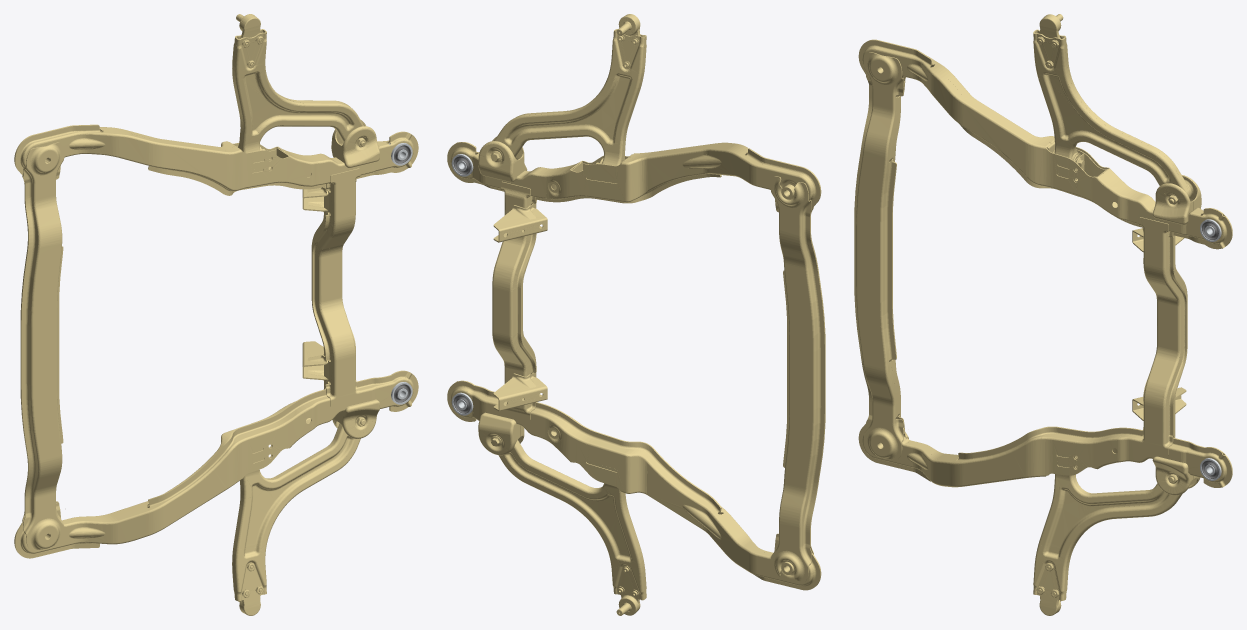
The model's file is Fr Subframe.glb.
3 views of the same model, side by side, from view 1: azimuth 30°, elevation 25°; view 2: azimuth 150°, elevation 25°; view 3: azimuth 330°, elevation 25° (orthographic).
Parts seen in each view (by area): view 1: Node3, Node2, Node4, Node1, Node8, Node5, Node6, Node7, Node9; view 2: Node3, Node1, Node4, Node5, Node6, Node8, Node7, Node2, Node9; view 3: Node3, Node4, Node2, Node1, Node8, Node5, Node6, Node7, Node9.
Part boxes in pixels (bbox=[...]): Node3: bbox=[20, 142, 64, 550]; Node2: bbox=[15, 120, 418, 558]; Node4: bbox=[14, 124, 418, 536]; Node1: bbox=[14, 168, 411, 552]; Node8: bbox=[232, 138, 365, 601]; Node5: bbox=[19, 29, 407, 191]; Node6: bbox=[233, 14, 363, 615]; Node7: bbox=[302, 124, 379, 438]; Node9: bbox=[389, 143, 412, 404]; Node3: bbox=[770, 176, 825, 582]; Node1: bbox=[447, 188, 820, 590]; Node4: bbox=[447, 142, 821, 207]; Node5: bbox=[455, 29, 747, 189]; Node6: bbox=[492, 14, 646, 615]; Node8: bbox=[491, 151, 646, 600]; Node7: bbox=[478, 137, 547, 455]; Node2: bbox=[456, 141, 821, 584]; Node9: bbox=[451, 154, 473, 415]; Node3: bbox=[854, 52, 908, 460]; Node4: bbox=[858, 39, 1232, 443]; Node2: bbox=[858, 67, 1232, 487]; Node1: bbox=[903, 217, 1232, 482]; Node8: bbox=[1033, 157, 1182, 600]; Node5: bbox=[864, 29, 1218, 468]; Node6: bbox=[1033, 14, 1191, 615]; Node7: bbox=[1132, 179, 1200, 495]; Node9: bbox=[1200, 219, 1221, 480].
Bounding box in the file's own units: 1027 × 1514 × 197.
